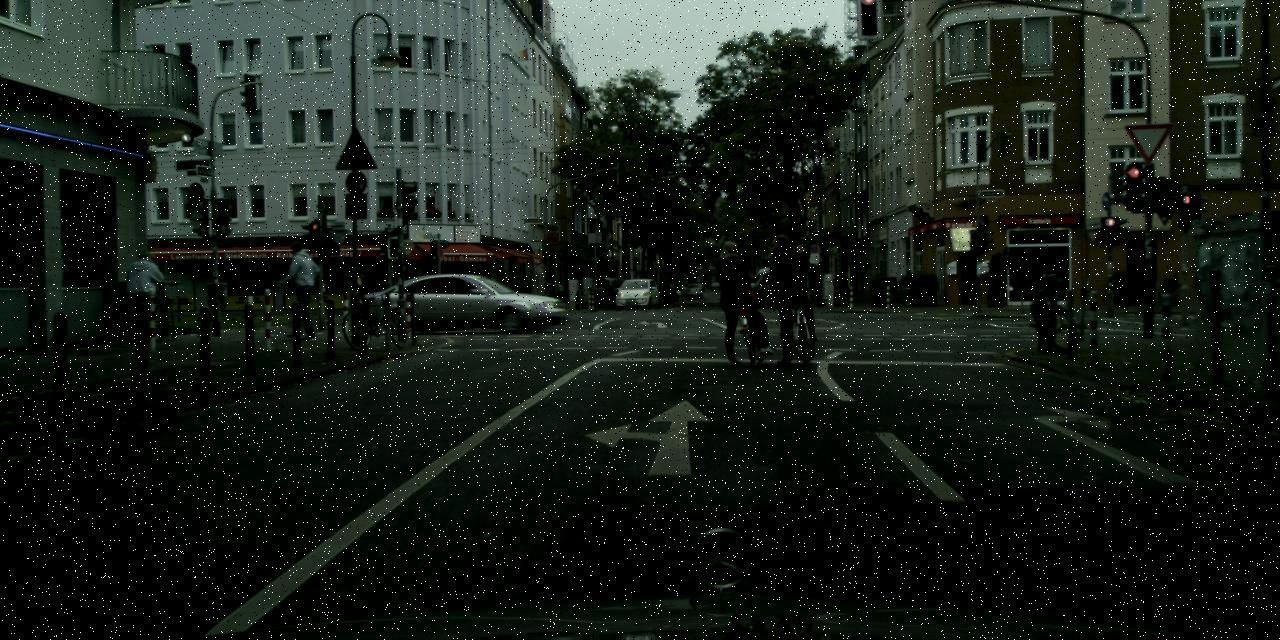ped: (717, 240, 764, 356), (767, 235, 813, 349), (279, 241, 318, 339), (354, 273, 368, 308)
